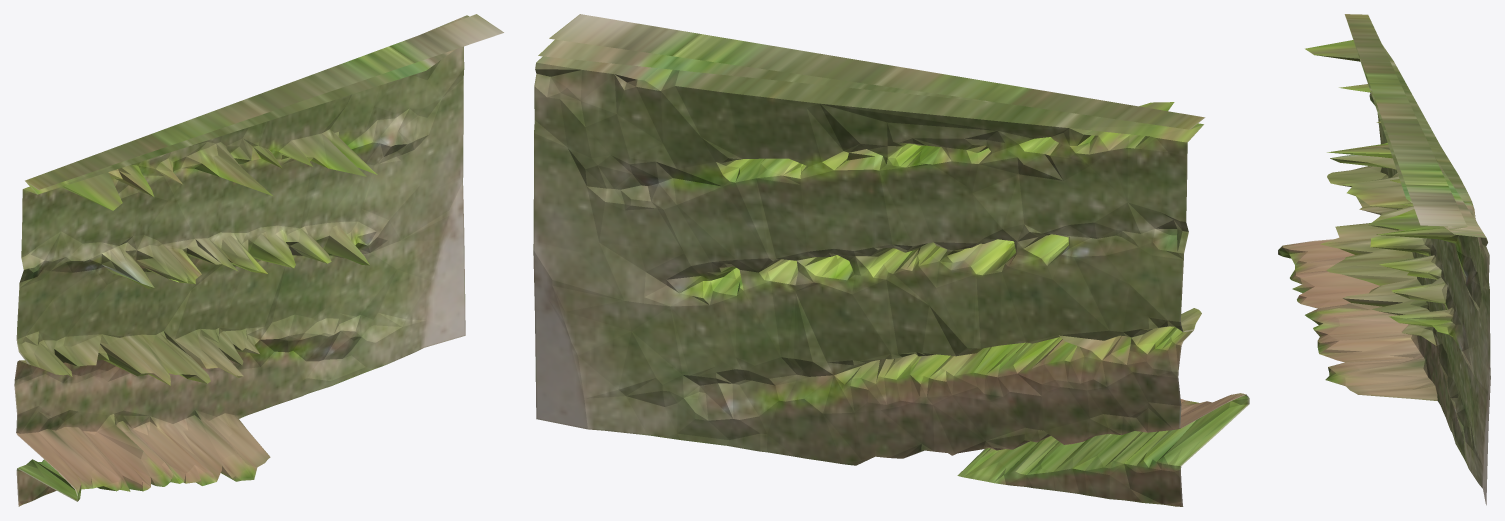
Rendered from map_270_10.obj.
3 views of the same model, side by side, from view 1: azimuth 30°, elevation 25°; view 2: azimuth 150°, elevation 25°; view 3: azimuth 270°, elevation 25° (orthographic). The views are drawn at different scales.
Visible parts, largest first — view 1: grp1; view 2: grp1; view 3: grp1.
Boxes of the visible parts, x1,y1,x2,y2 form: grp1: (14,14,503,506); grp1: (533,14,1249,506); grp1: (1278,14,1490,505).
Bounding box in the file's own units: 10 × 6.2 × 4.25.
Materials: 1 (1 with a texture image).
